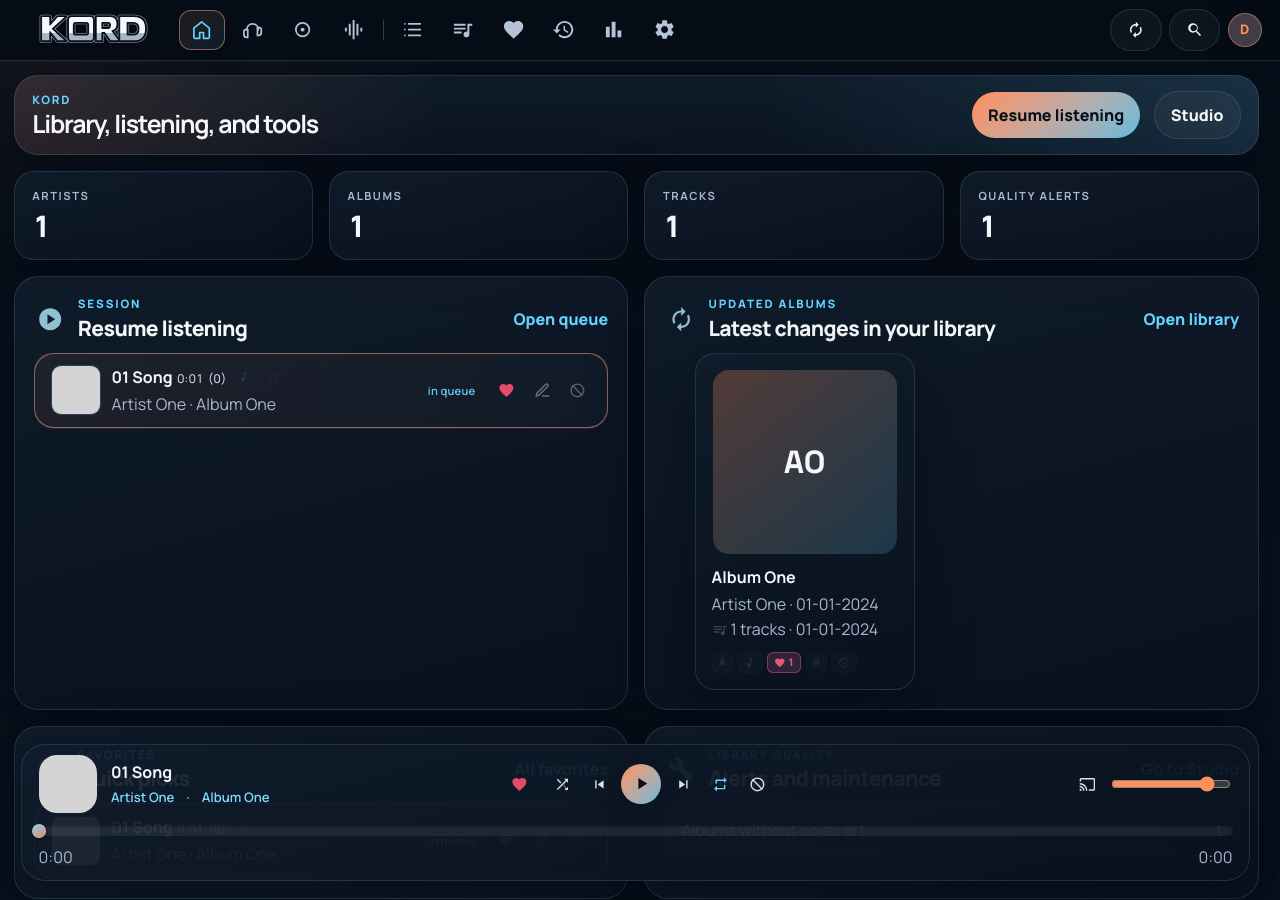
App › renders dashboard and navigates to library
Expected: the heading "Library, listening, and tools" is shown, 32,107 -> 318,140
What coordinates should you click on to do the following:
click the button named "Library"
I would click on:
 (303, 30)
Its box is 280,10 -> 326,50.
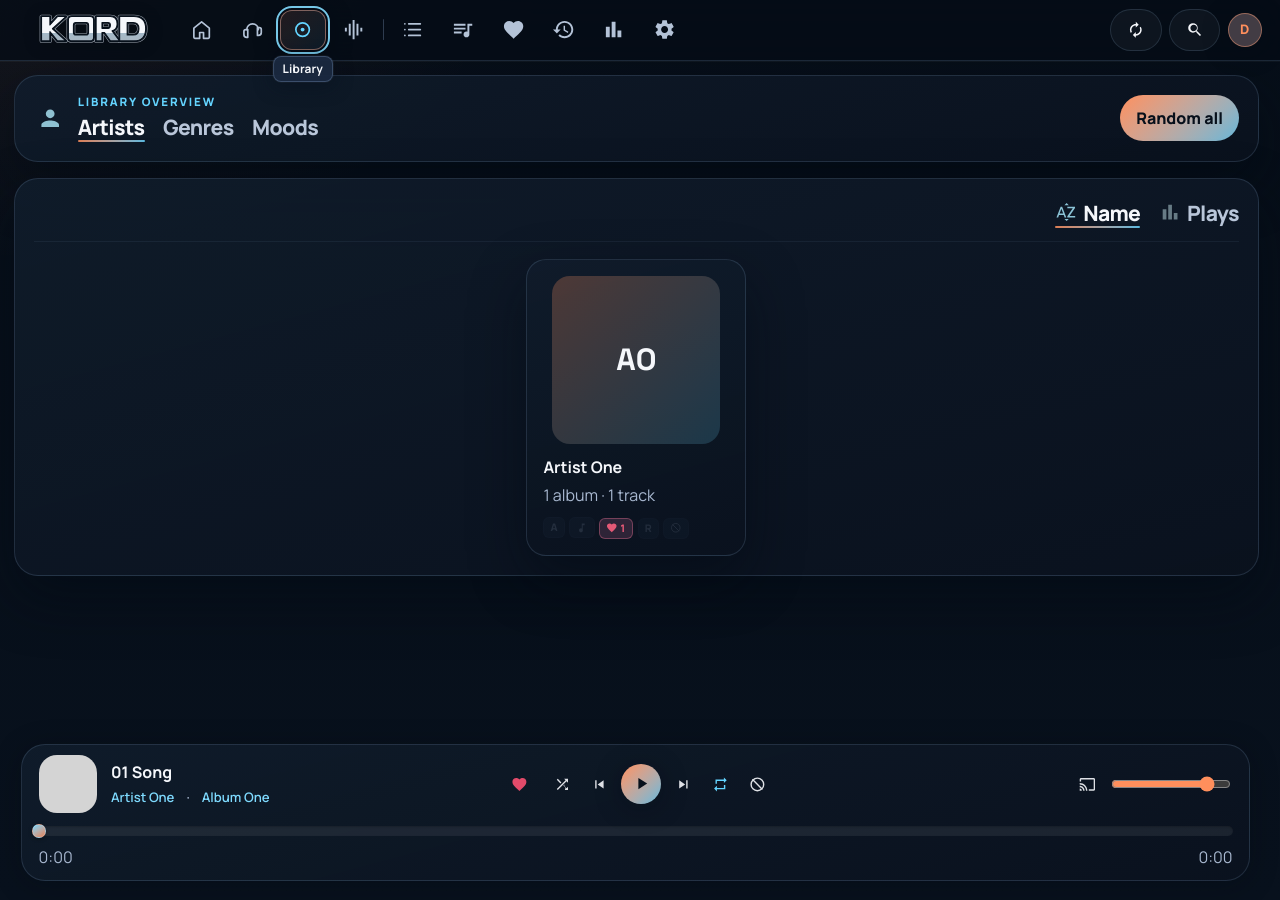
Expected: the text "Artist One" is shown, 543,456 -> 622,478
Result: the button "Random all" is shown at 1120,95 -> 1239,141
